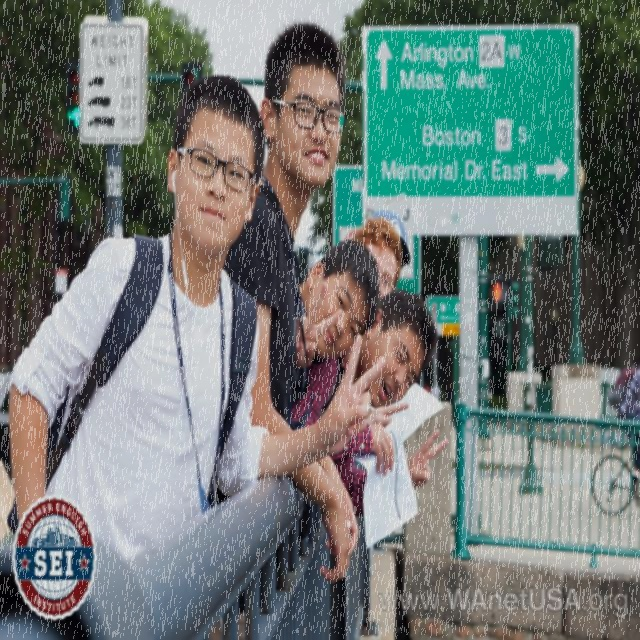pessoa: (7, 72, 389, 544), (215, 21, 364, 590), (290, 284, 452, 524), (286, 236, 388, 596), (606, 330, 640, 508), (346, 218, 404, 308), (350, 214, 405, 302)
